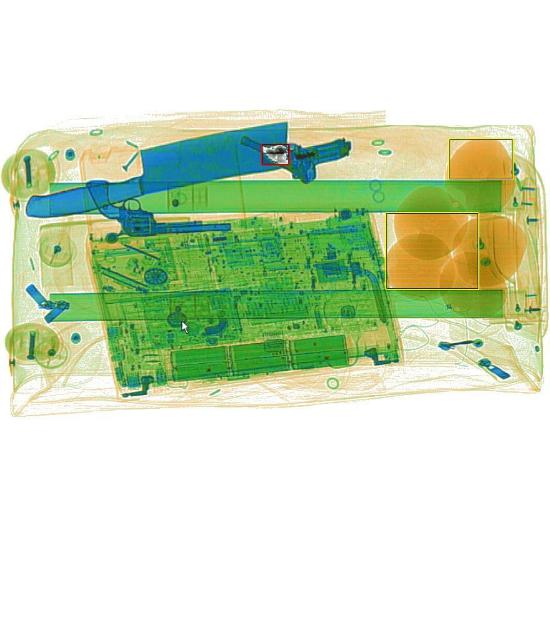Gun: (236, 92, 352, 196), (87, 174, 230, 236)
Knife: (17, 116, 294, 222)
